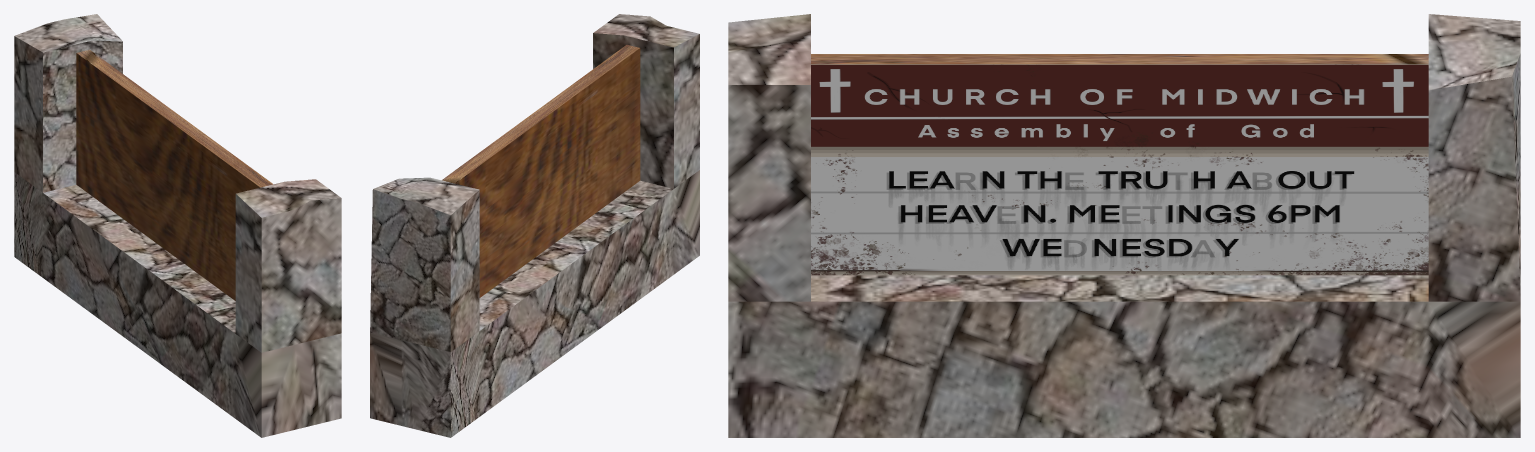
The model's file is ChurchSign.fbx.
The picture shows the model from 3 angles, left to right: view 1: azimuth 30°, elevation 25°; view 2: azimuth 150°, elevation 25°; view 3: azimuth 270°, elevation 25°; orthographic projection. The views are drawn at different scales.
Parts seen in each view (by area): view 1: SignBase, pCube2; view 2: SignBase, pCube2; view 3: SignBase, pCube2.
Boxes of the visible parts, x1=… form: SignBase: x1=14, y1=14, x2=341, y2=437; pCube2: x1=76, y1=49, x2=272, y2=300; SignBase: x1=370, y1=14, x2=699, y2=437; pCube2: x1=442, y1=45, x2=640, y2=297; SignBase: x1=728, y1=14, x2=1520, y2=437; pCube2: x1=811, y1=54, x2=1428, y2=275.
Bounding box in the file's own units: 2.85 × 7.67 × 15.24.
